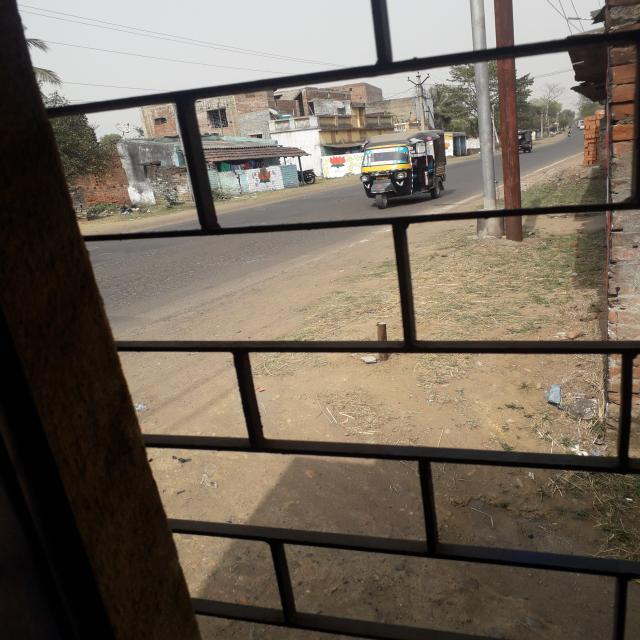auto_front: (356, 126, 456, 216)
